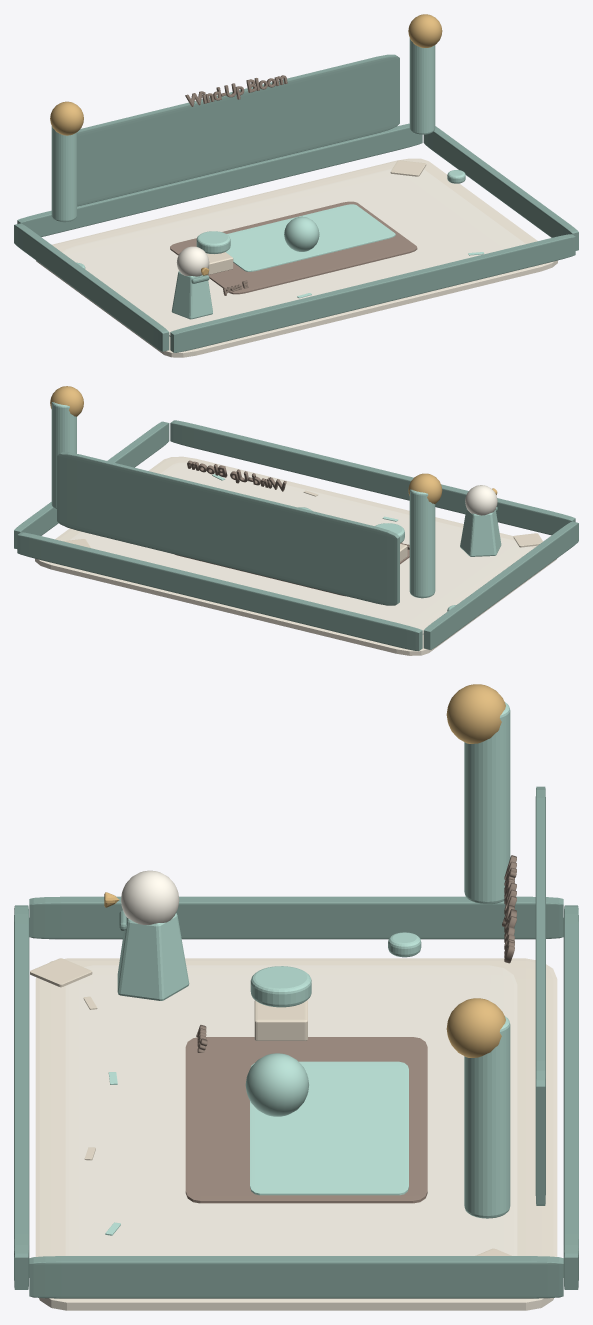
File: 05_animations.glb
3 views of the same model, one above another, from view 1: azimuth 30°, elevation 25°; view 2: azimuth 150°, elevation 25°; view 3: azimuth 270°, elevation 25° (orthographic). The views are drawn at different scales.
Visible parts, largest first — view 1: BackCard, FloorLayerInset, SouthRail-col, NorthRail-col, PaperFloor-col, StageMatHighlight, StageMat, WestRail-col, EastRail-col, PaperLantern.001, FpeRushPlayer, PaperLantern (+7 smaller); view 2: BackCard, FloorLayerInset, NorthRail-col, SouthRail-col, PaperFloor-col, WestRail-col, PaperLantern, FpeRushPlayer, EastRail-col, PaperLantern.001, TitleLabel, LanternGlow.001 (+1 smaller); view 3: FloorLayerInset, PaperFloor-col, EastRail-col, WestRail-col, StageMat, StageMatHighlight, PaperLantern.001, PaperLantern, FpeRushPlayer, NorthRail-col, SouthRail-col, BackCard (+7 smaller).
Boxes of the visible parts, x1=… form: BackCard: x1=77, y1=54, x2=399, y2=206; FloorLayerInset: x1=62, y1=168, x2=525, y2=336; SouthRail-col: x1=170, y1=234, x2=575, y2=352; NorthRail-col: x1=17, y1=123, x2=422, y2=236; PaperFloor-col: x1=36, y1=158, x2=557, y2=357; StageMatHighlight: x1=225, y1=204, x2=395, y2=271; StageMat: x1=170, y1=201, x2=417, y2=294; WestRail-col: x1=14, y1=223, x2=169, y2=351; EastRail-col: x1=423, y1=126, x2=578, y2=250; PaperLantern.001: x1=409, y1=38, x2=435, y2=134; FpeRushPlayer: x1=171, y1=246, x2=212, y2=319; PaperLantern: x1=51, y1=126, x2=76, y2=222; BackCard: x1=57, y1=452, x2=399, y2=605; FloorLayerInset: x1=70, y1=462, x2=533, y2=634; NorthRail-col: x1=17, y1=532, x2=422, y2=650; SouthRail-col: x1=170, y1=420, x2=575, y2=535; PaperFloor-col: x1=35, y1=456, x2=556, y2=655; WestRail-col: x1=423, y1=521, x2=578, y2=649; PaperLantern: x1=409, y1=489, x2=435, y2=598; FpeRushPlayer: x1=460, y1=485, x2=501, y2=556; EastRail-col: x1=14, y1=421, x2=169, y2=548; PaperLantern.001: x1=51, y1=402, x2=76, y2=509; TitleLabel: x1=187, y1=460, x2=286, y2=491; LanternGlow.001: x1=50, y1=386, x2=83, y2=416; FloorLayerInset: x1=65, y1=965, x2=517, y2=1255; PaperFloor-col: x1=35, y1=958, x2=557, y2=1310; EastRail-col: x1=29, y1=1256, x2=563, y2=1298; WestRail-col: x1=29, y1=896, x2=563, y2=939; StageMat: x1=185, y1=1037, x2=427, y2=1203; StageMatHighlight: x1=250, y1=1061, x2=408, y2=1195; PaperLantern.001: x1=464, y1=1016, x2=510, y2=1218; PaperLantern: x1=464, y1=702, x2=510, y2=904; FpeRushPlayer: x1=104, y1=870, x2=189, y2=1000; NorthRail-col: x1=563, y1=905, x2=578, y2=1289; SouthRail-col: x1=14, y1=905, x2=29, y2=1289; BackCard: x1=535, y1=786, x2=545, y2=1205.
Bounding box in the file's own units: 6.8 × 2.56 × 4.44.
